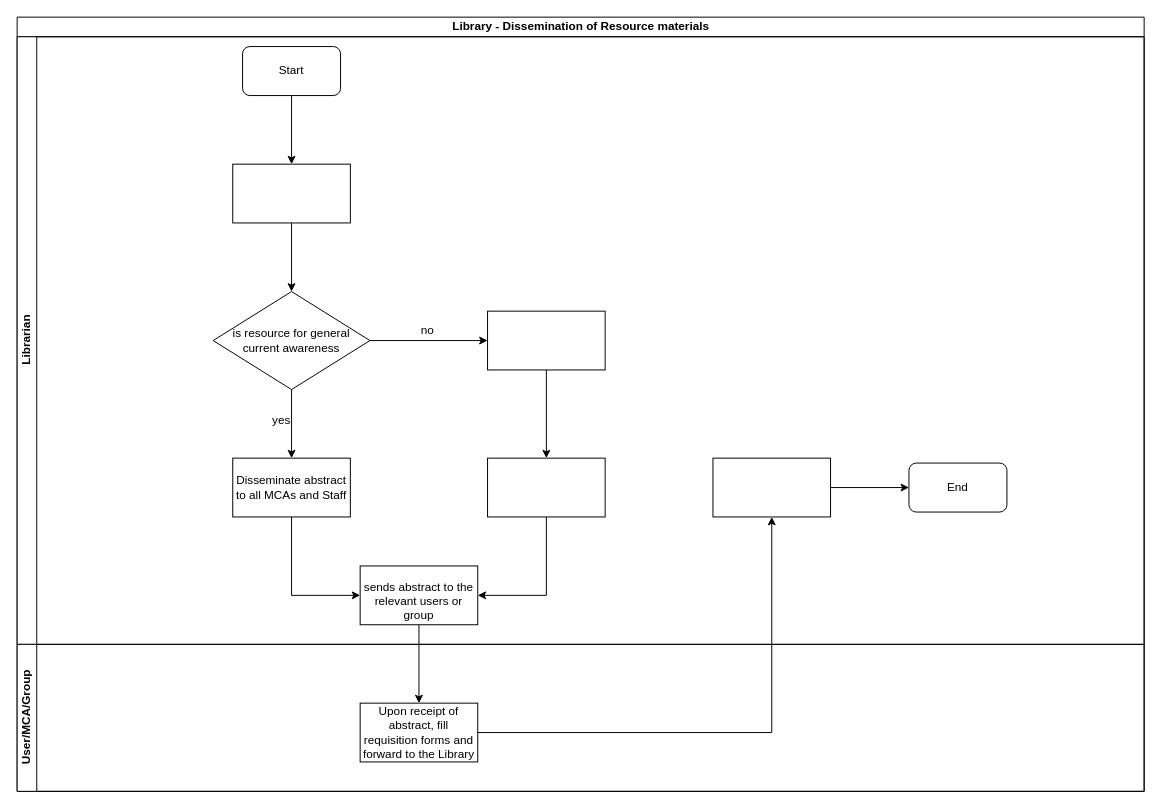
Image size: 1161x809. Some labels were removed from this diagram. Each missing label, with the centre of its shape:
"Check for relevance to specific user/s or group/s" goes at (546,340).
"Prepare an Abstract for each new resource received" goes at (291,193).
"Process the requisition" goes at (771,487).
"Send abstract to the relevant users or group" goes at (546,487).
